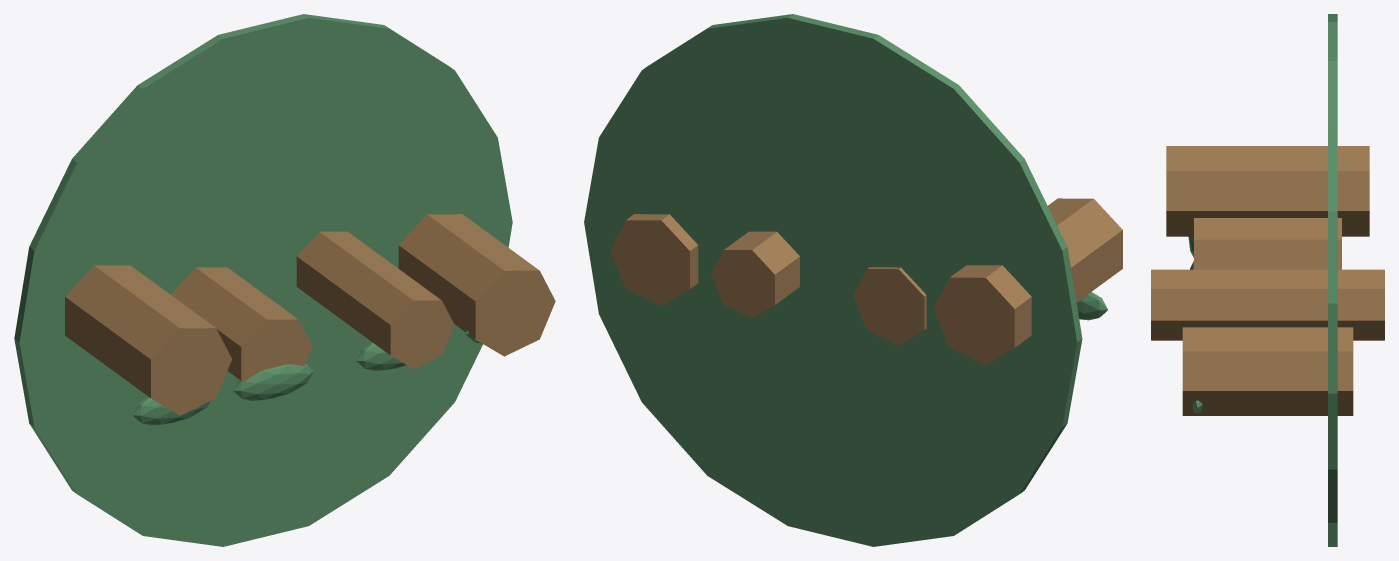
Rendered from 02_local_prop_cluster.glb.
3 views of the same model, side by side, from view 1: azimuth 30°, elevation 25°; view 2: azimuth 150°, elevation 25°; view 3: azimuth 270°, elevation 25° (orthographic). The views are drawn at different scales.
Parts seen in each view (by area): view 1: scatter_base, root_stump_0, root_stump_3, root_stump_2, root_stump_1, moss_1, moss_0, moss_2; view 2: scatter_base, root_stump_0, root_stump_3, root_stump_2, root_stump_1, moss_0; view 3: root_stump_0, root_stump_3, root_stump_2, root_stump_1, scatter_base.
Boxes of the visible parts, <box> form: scatter_base: <box>14,14,512,546</box>; root_stump_0: <box>65,265,231,415</box>; root_stump_3: <box>398,214,555,356</box>; root_stump_2: <box>296,231,454,368</box>; root_stump_1: <box>170,267,312,382</box>; moss_1: <box>233,364,313,400</box>; moss_0: <box>132,397,210,425</box>; moss_2: <box>356,342,406,370</box>; scatter_base: <box>584,14,1082,546</box>; root_stump_0: <box>933,198,1122,364</box>; root_stump_3: <box>610,214,698,305</box>; root_stump_2: <box>711,231,799,318</box>; root_stump_1: <box>853,267,926,345</box>; moss_0: <box>1076,292,1107,320</box>; root_stump_0: <box>1166,146,1369,236</box>; root_stump_3: <box>1182,327,1353,415</box>; root_stump_2: <box>1151,269,1384,340</box>; root_stump_1: <box>1194,218,1341,269</box>; scatter_base: <box>1328,14,1337,546</box>.
Size of the model in its own units: 1.9 by 1.87 by 0.8298.
